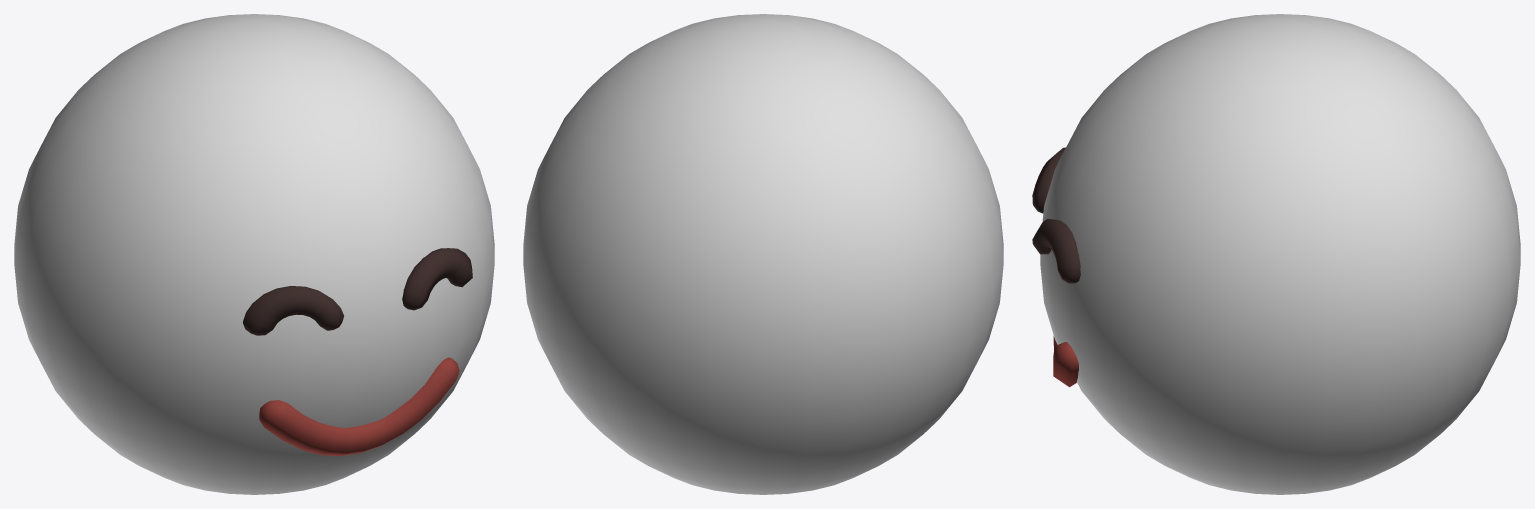
The model's file is face_smile.glb.
3 renders of one model, left to right at view 1: azimuth 30°, elevation 25°; view 2: azimuth 150°, elevation 25°; view 3: azimuth 270°, elevation 25°, orthographic.
Parts seen in each view (by area): view 1: face_smile; view 2: face_smile; view 3: face_smile.
Boxes of the visible parts, bbox=[...] form: face_smile: bbox=[14, 14, 494, 494]; face_smile: bbox=[523, 14, 1003, 494]; face_smile: bbox=[1032, 14, 1520, 494].
Bounding box in the file's own units: 1 × 1 × 1.01.
